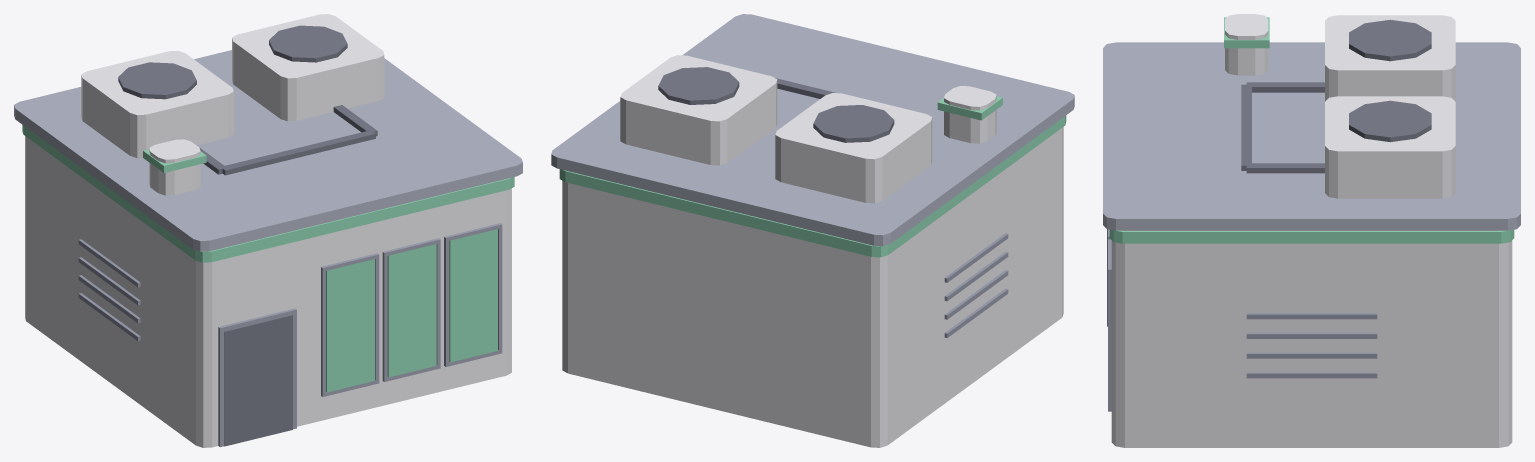
File: battery-1x1.glb
The picture shows the model from 3 angles, left to right: view 1: azimuth 30°, elevation 25°; view 2: azimuth 150°, elevation 25°; view 3: azimuth 270°, elevation 25°; orthographic projection. The views are drawn at different scales.
Visible parts, largest first — view 1: battery-1x1; view 2: battery-1x1; view 3: battery-1x1.
Part boxes in pixels (x1,y1,x2,y2): battery-1x1: (14,14,522,447); battery-1x1: (551,14,1074,447); battery-1x1: (1103,14,1520,447).
Size of the model in its own units: 0.96 by 0.722 by 0.96.
1 material, 1 textured.
